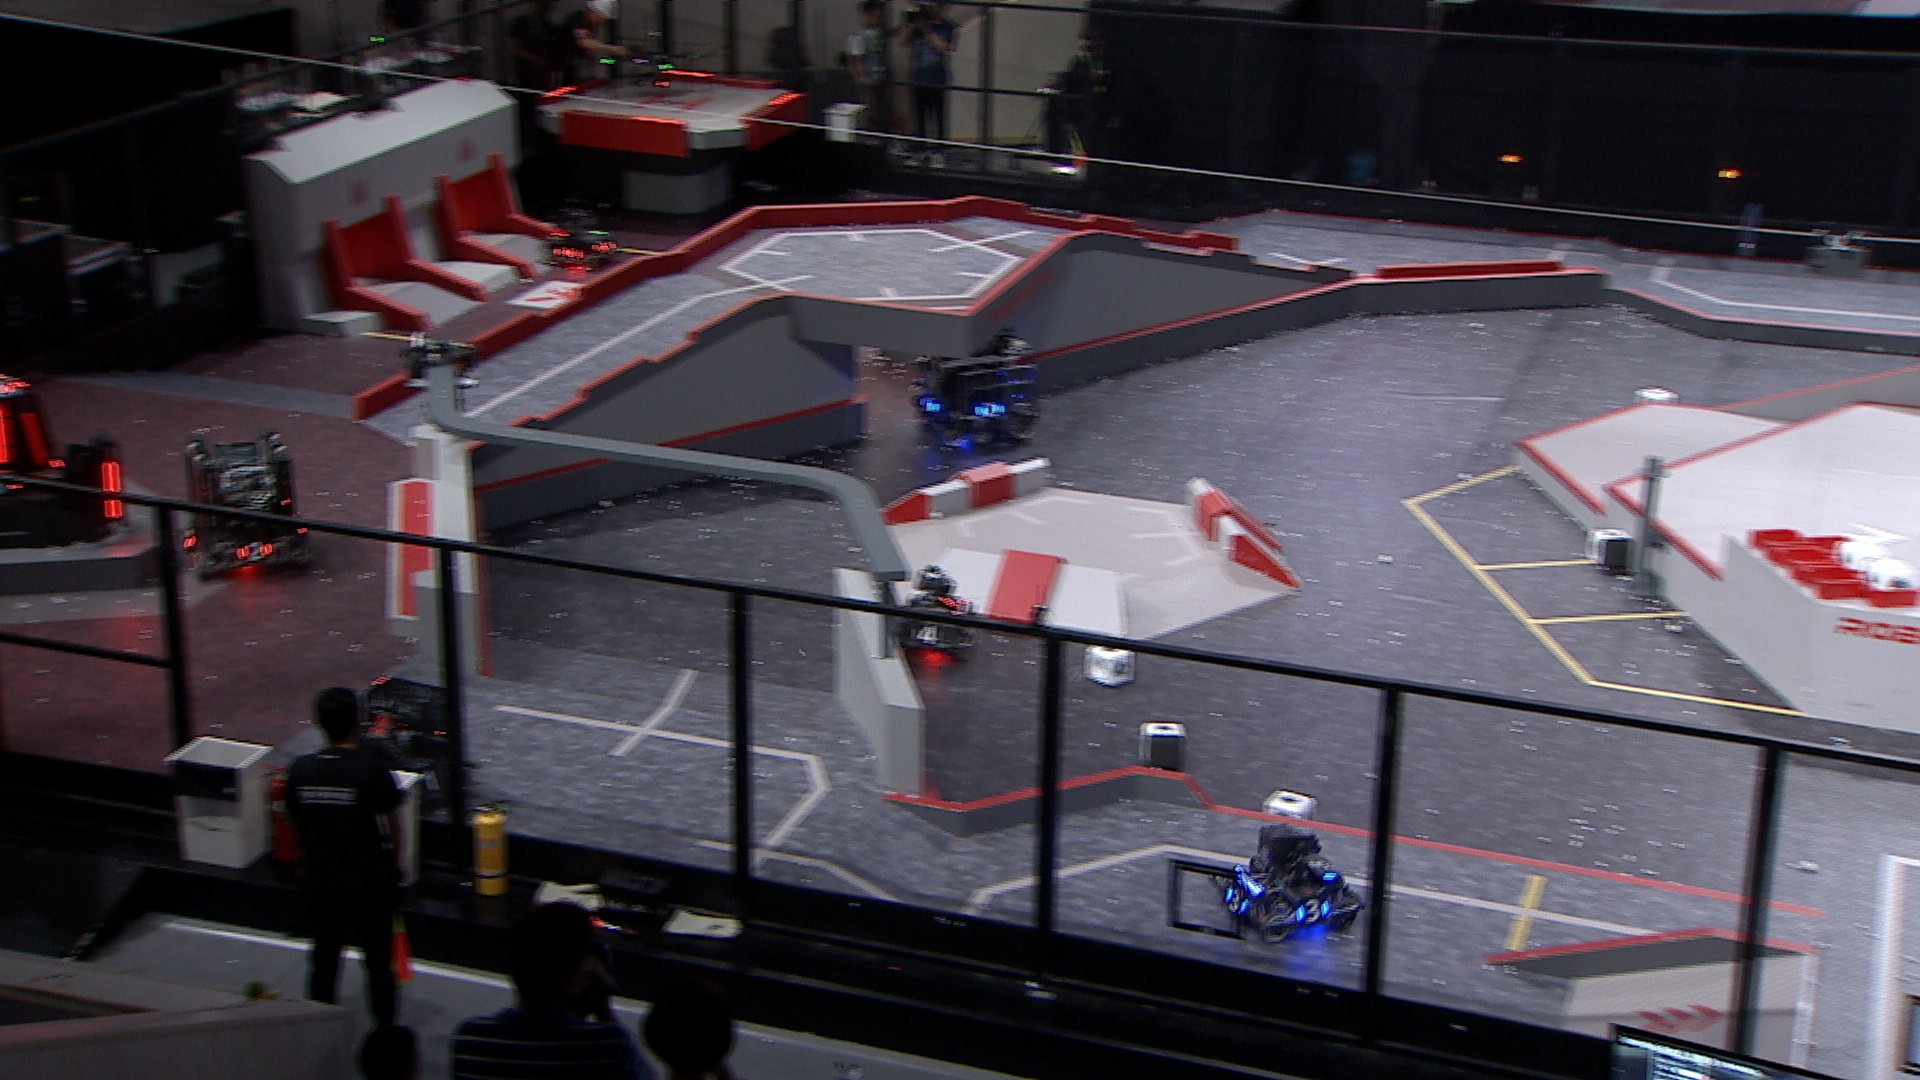armor: (18, 410, 50, 465), (98, 458, 125, 520), (414, 764, 446, 798), (1292, 897, 1331, 924), (907, 621, 942, 647), (1305, 853, 1335, 884), (237, 541, 273, 564), (1225, 884, 1247, 916), (549, 243, 584, 262), (177, 526, 199, 556), (913, 392, 940, 415), (975, 398, 1005, 418), (589, 237, 618, 256)
car: (306, 670, 477, 820), (171, 425, 320, 588), (1215, 818, 1370, 943), (906, 328, 1044, 456), (893, 564, 981, 661), (537, 207, 626, 276)
watcher: (400, 324, 484, 418)
